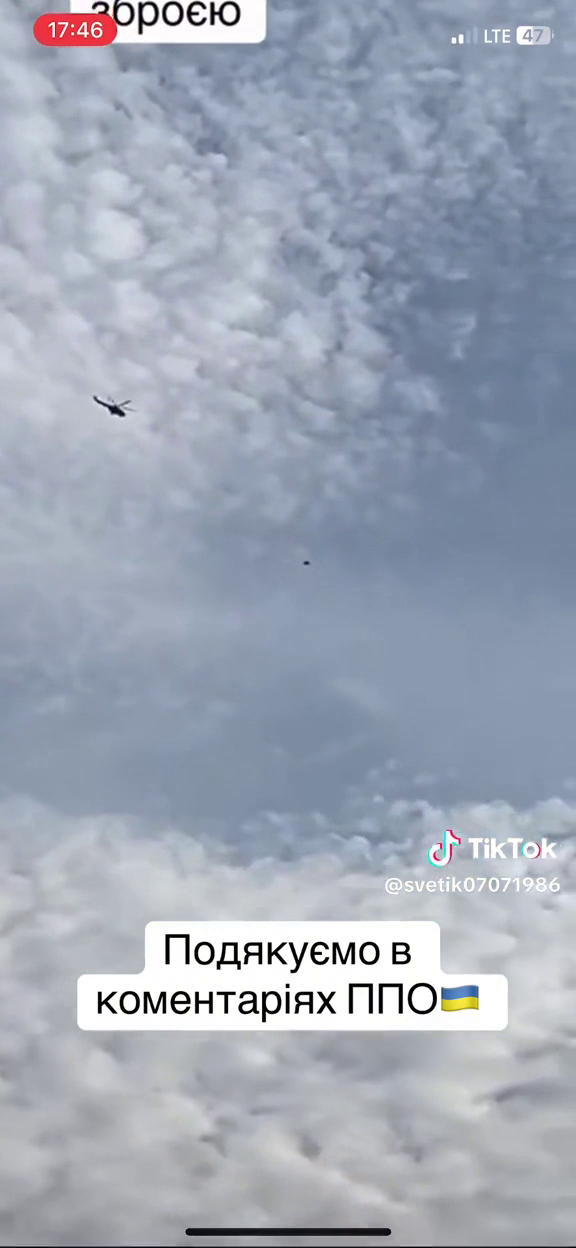not_drone: (87, 387, 140, 425)
